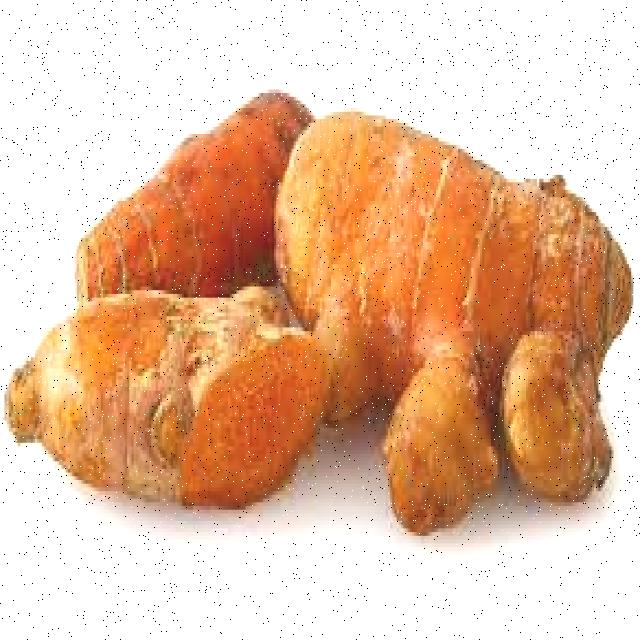turmeric: (281, 86, 626, 507), (2, 284, 310, 534), (70, 6, 313, 300)
